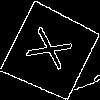X: (25, 26, 84, 76)
